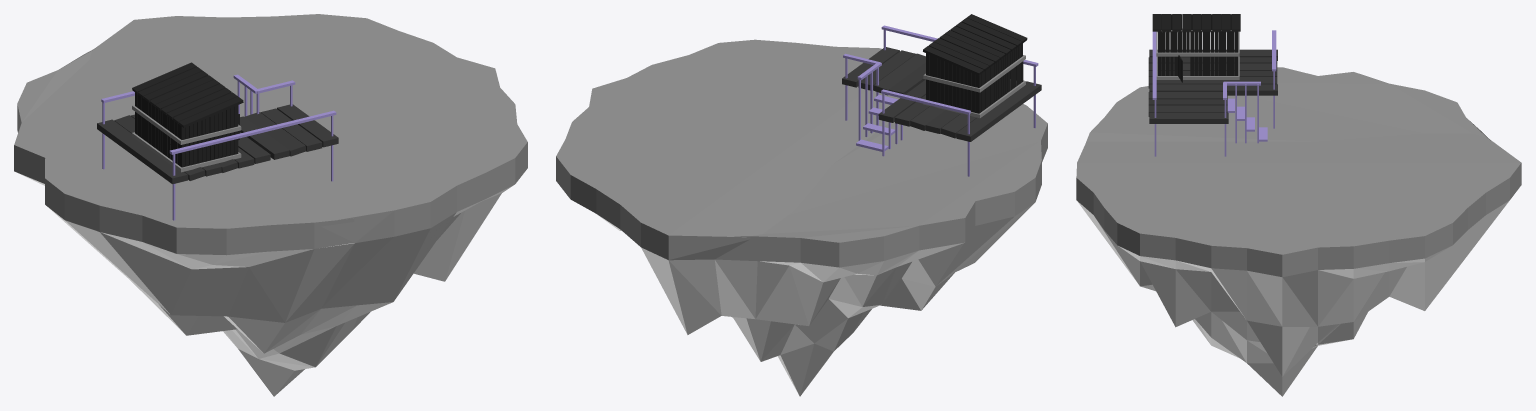
File: Island.fbx
The picture shows the model from 3 angles, left to right: view 1: azimuth 30°, elevation 25°; view 2: azimuth 150°, elevation 25°; view 3: azimuth 270°, elevation 25°; orthographic projection. The views are drawn at different scales.
Visible parts, largest first — view 1: Object003, Box023, Box033, Box042, Box017, Box001; view 2: Object003, Box023, Box033, Box042, Box017; view 3: Object003, Box033, Box023, Box042, Box017, Box001.
Part boxes in pixels (x1,y1,x2,y2): Object003: (14, 14, 527, 396); Box023: (132, 62, 243, 167); Box033: (97, 104, 338, 184); Box042: (101, 74, 336, 220); Box017: (132, 105, 241, 144); Box001: (132, 132, 241, 172); Object003: (556, 39, 1047, 396); Box023: (923, 14, 1027, 113); Box033: (842, 47, 1041, 141); Box042: (843, 25, 1038, 176); Box017: (923, 55, 1025, 92); Object003: (1076, 67, 1521, 396); Box033: (1148, 49, 1277, 123); Box023: (1152, 14, 1240, 82); Box042: (1152, 30, 1276, 156); Box017: (1156, 28, 1239, 56); Box001: (1156, 51, 1239, 79).
Size of the model in its own units: 625 by 500 by 625.
